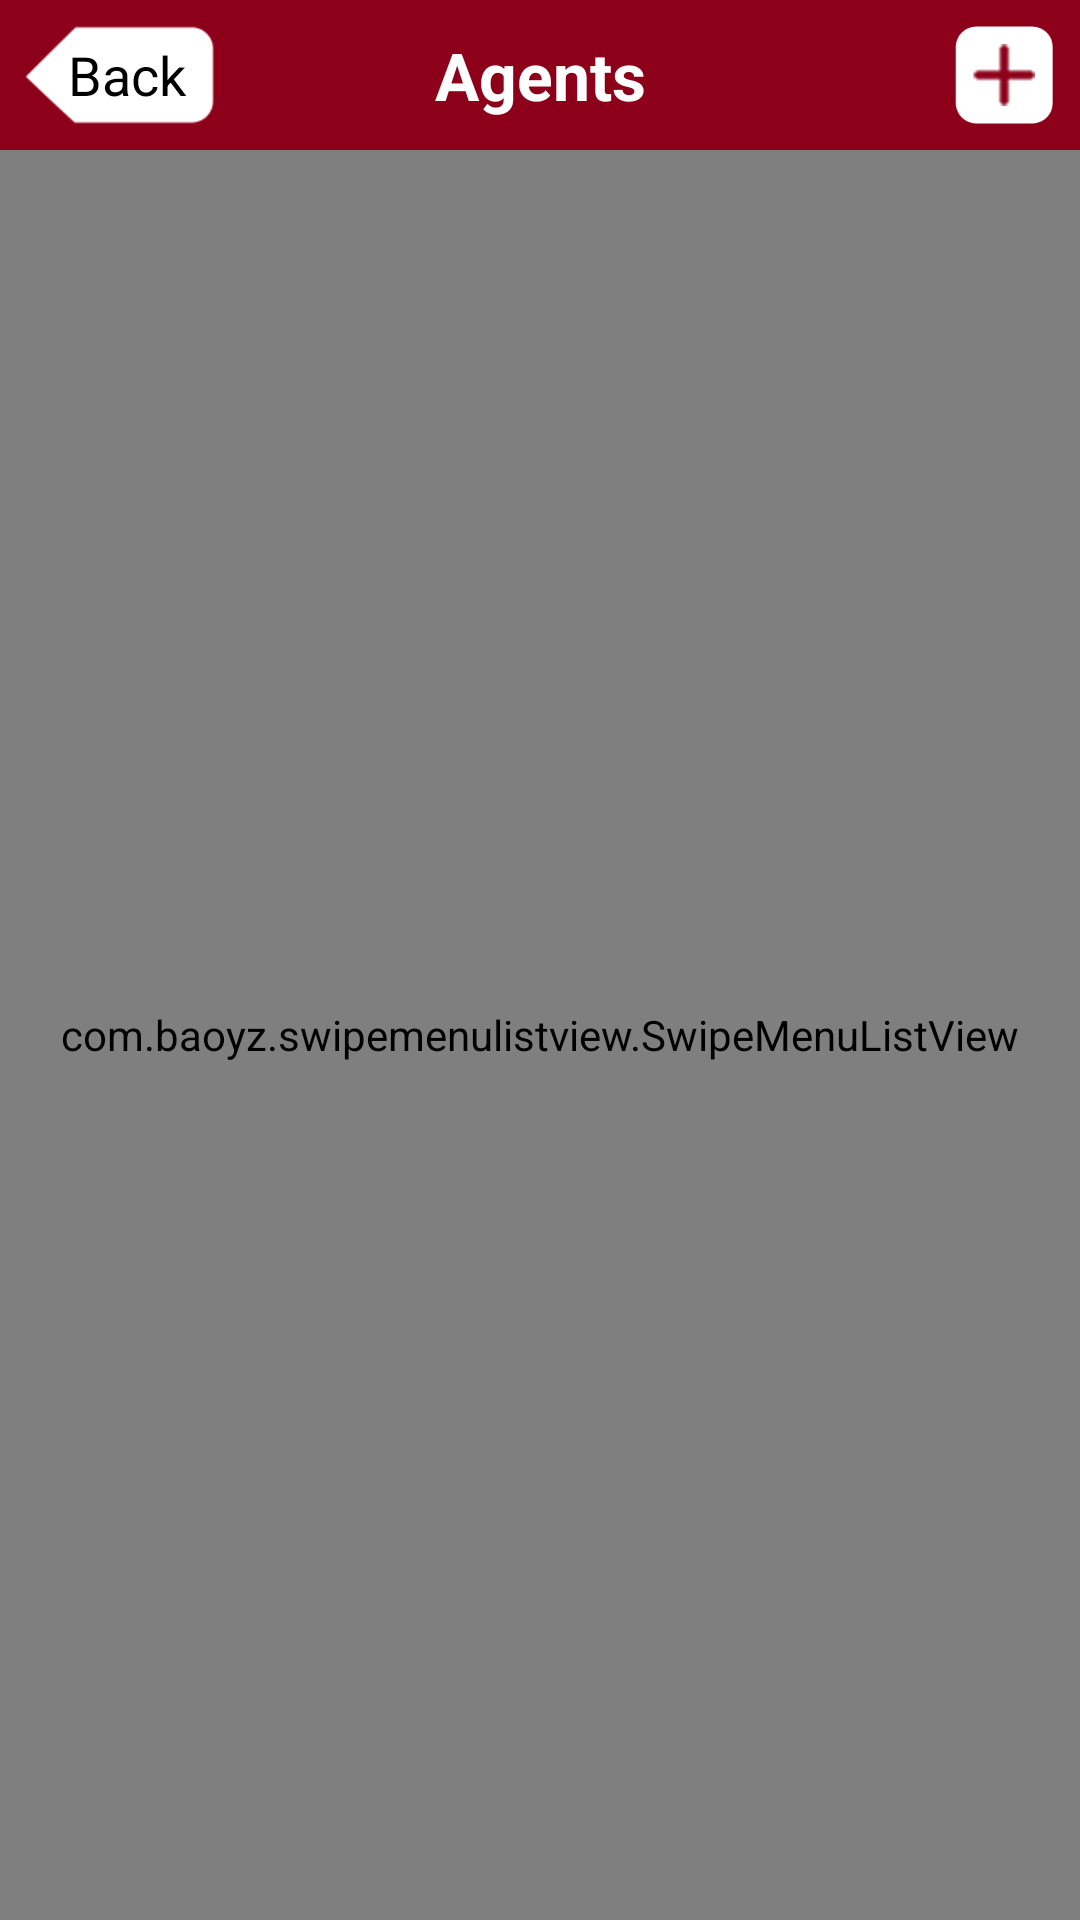

Screen size 1080 x 1920. Icon name, then its box in pixels as (x1, y1, x2, y2):
plus: (955, 26, 1053, 124)
